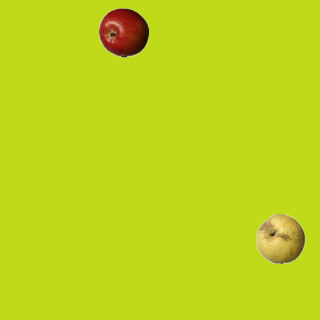Apple Braeburn: (98, 7, 148, 57)
Apple Golden 1: (255, 213, 305, 263)
